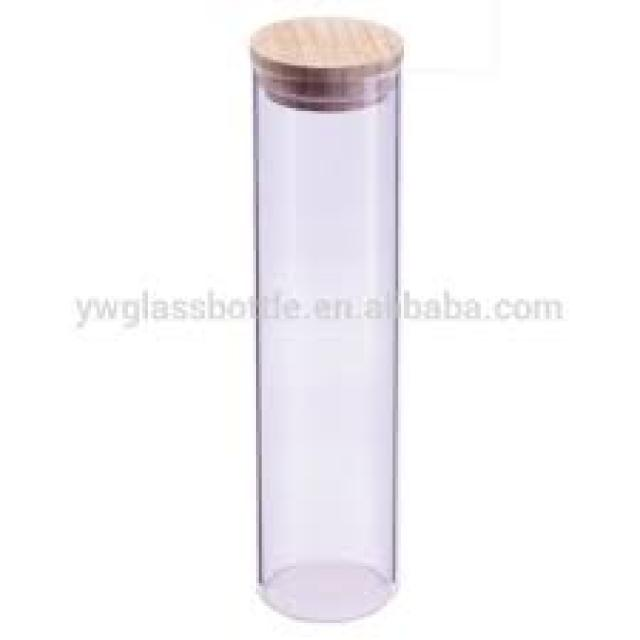glass: (251, 60, 396, 617)
